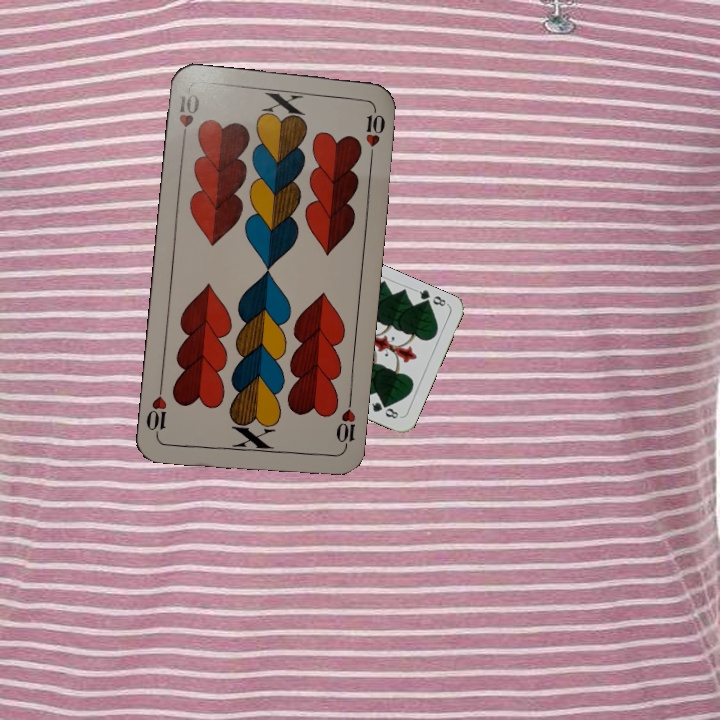G8: (411, 285, 450, 310)
H10: (331, 395, 358, 454), (175, 89, 202, 147)
